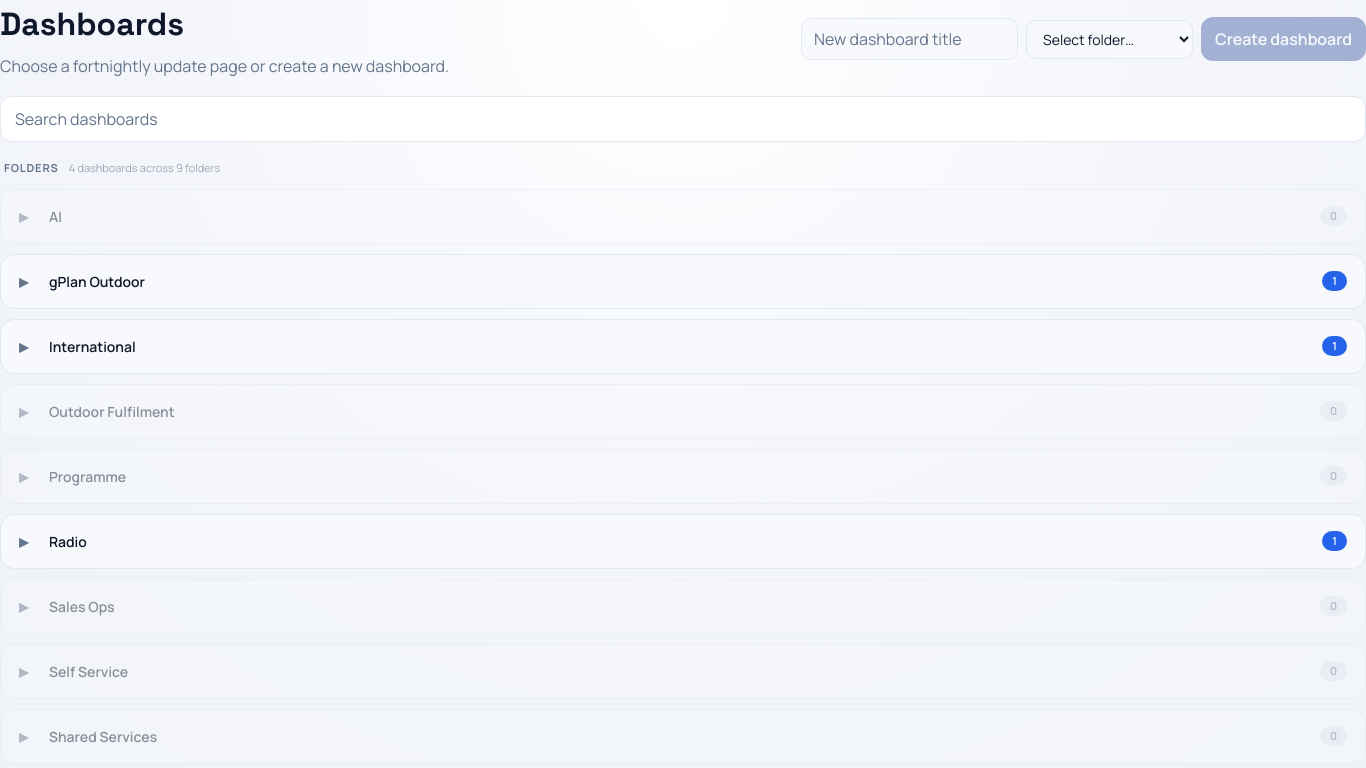
Test: DashboardList — folders › shows a flat grid of results when searching, bypassing folder structure
Type "radio" into the search field with placeholder "Search dashboards".
click(683, 119); type("radio")  # box 0,96 -> 1365,142
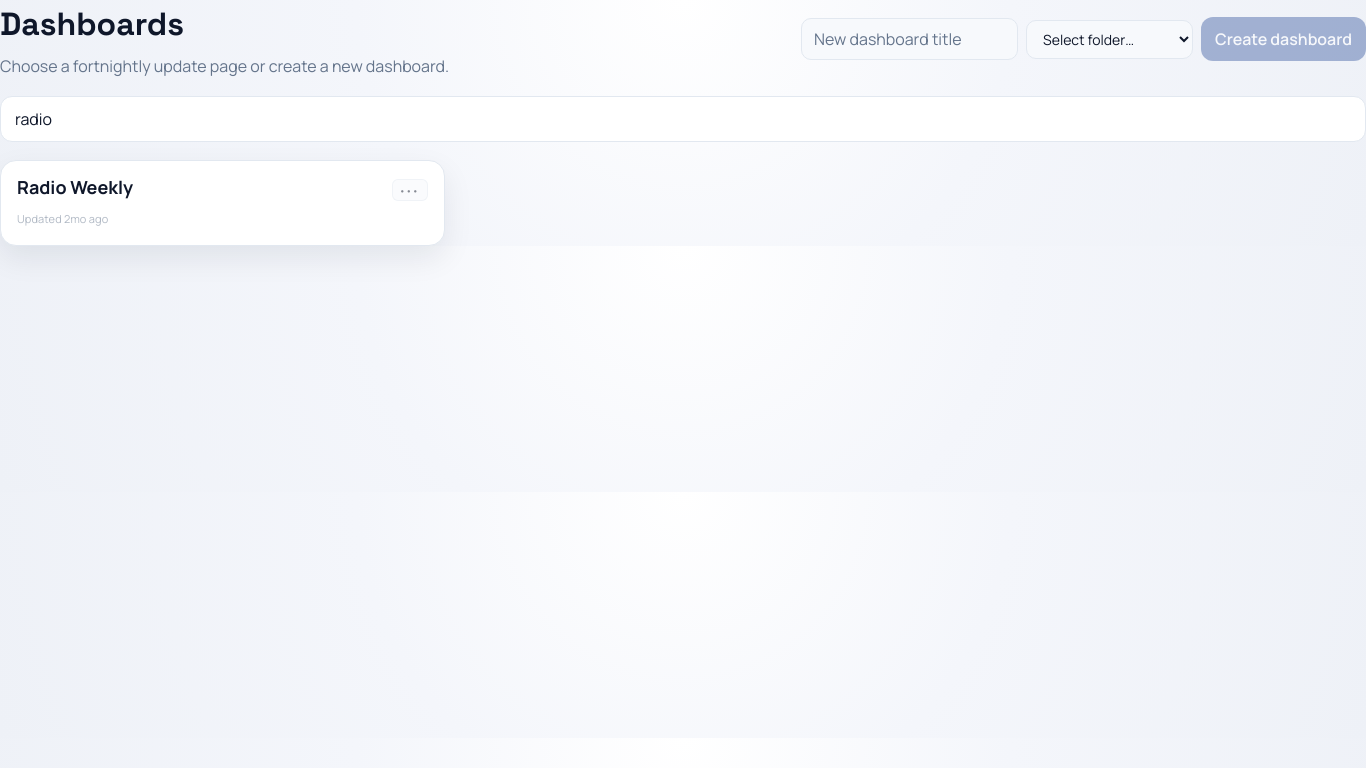
Expected: the heading "Radio Weekly" is shown, 17,175 -> 133,199
Expected: no buttons with class "folder-header" are shown
